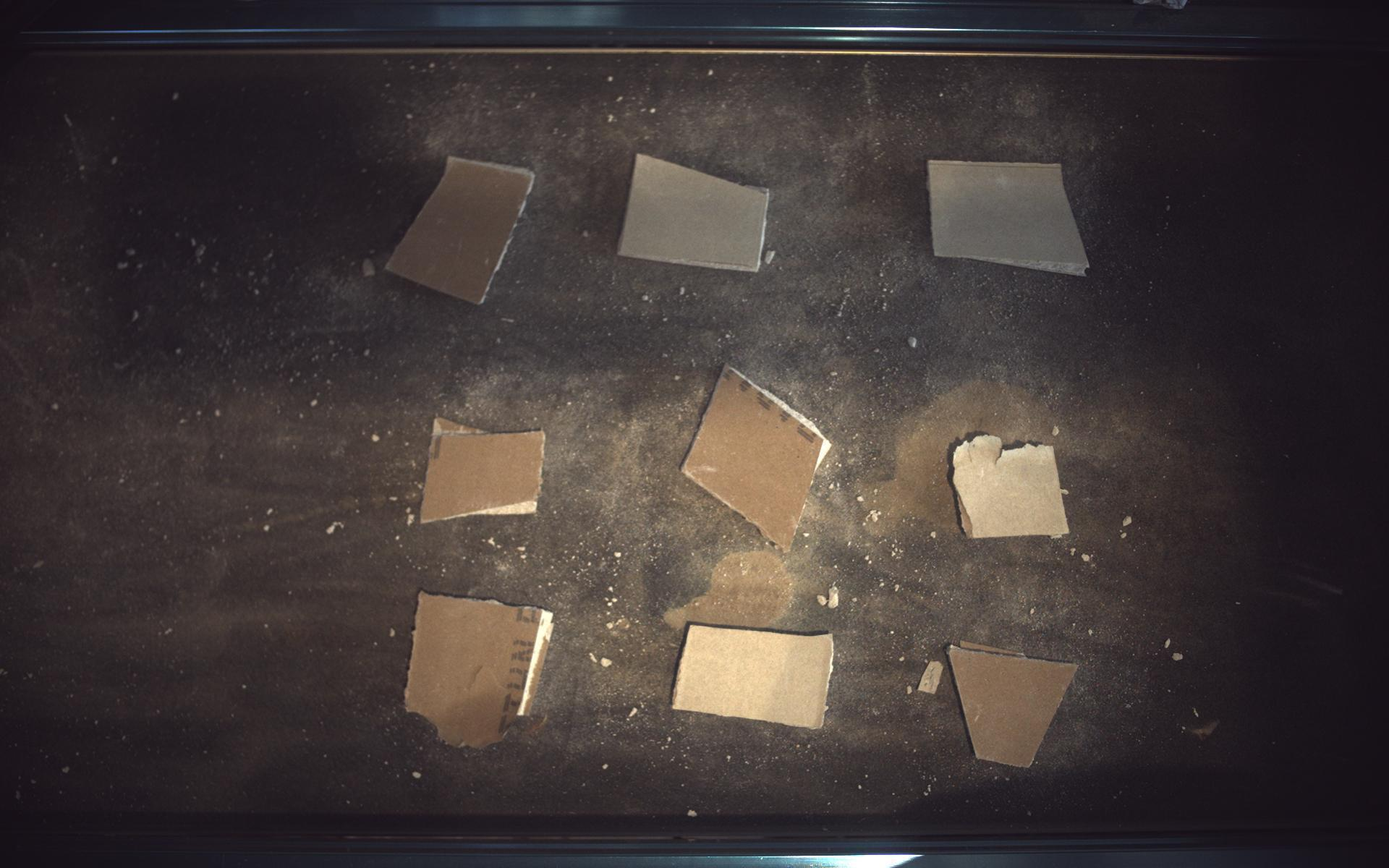gypsum_board: (683, 365, 832, 553), (405, 592, 553, 749), (385, 156, 535, 303), (930, 161, 1092, 276), (619, 153, 770, 271), (674, 626, 835, 730), (950, 647, 1079, 768), (420, 417, 545, 524), (954, 435, 1071, 539)
